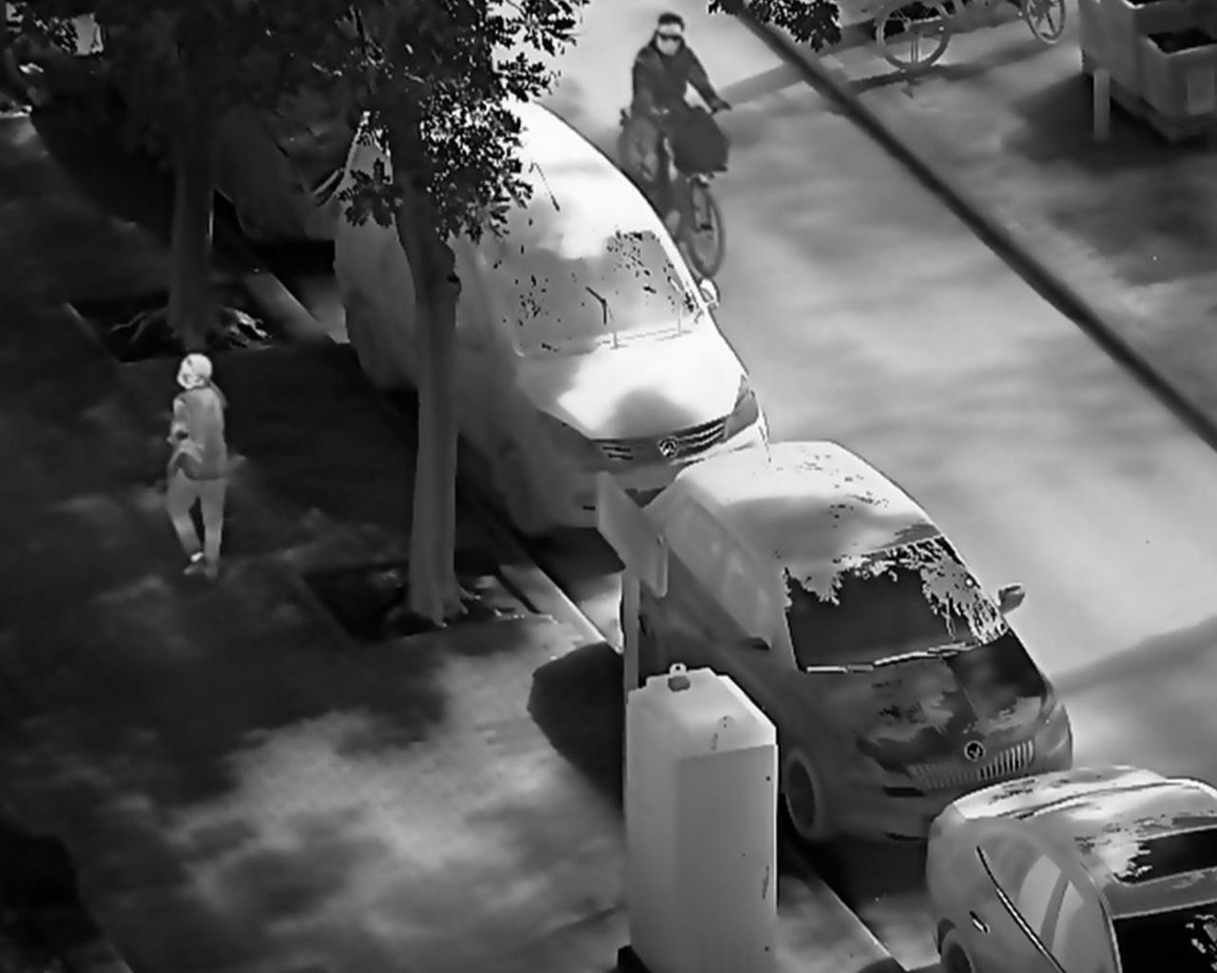person: (626, 10, 731, 242), (161, 351, 233, 589)
